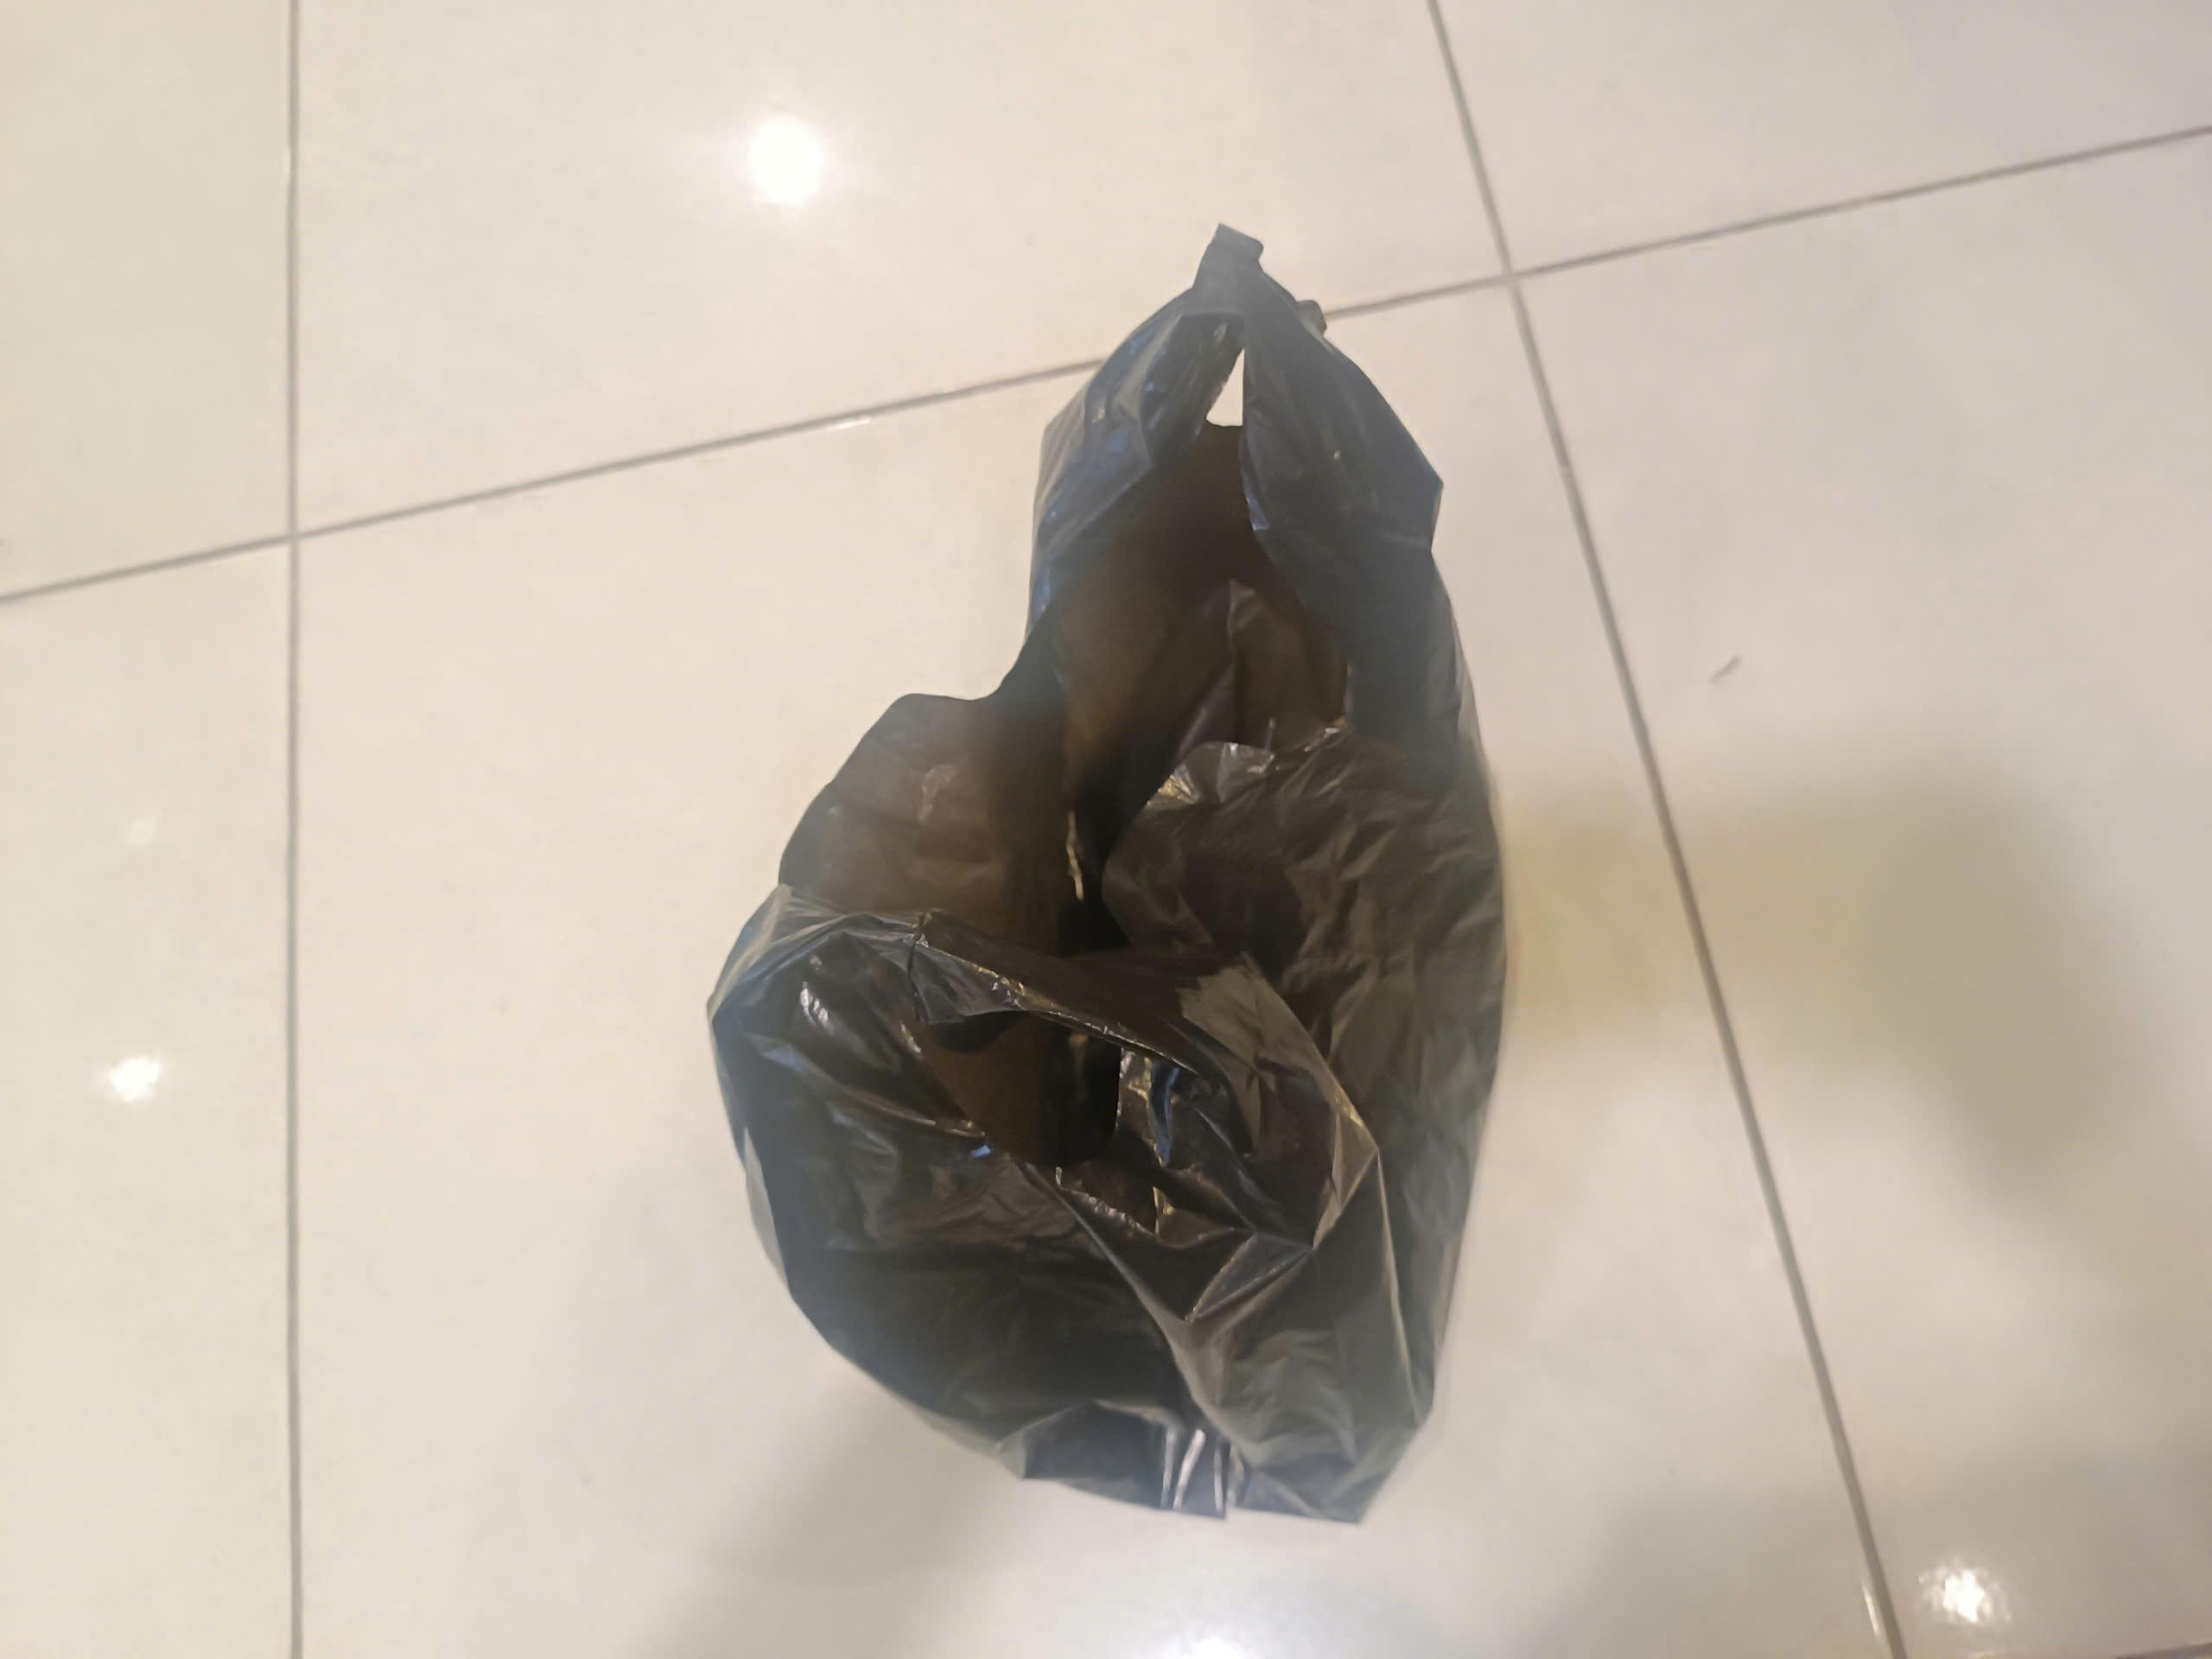Vo co: (702, 225, 1500, 1547)
